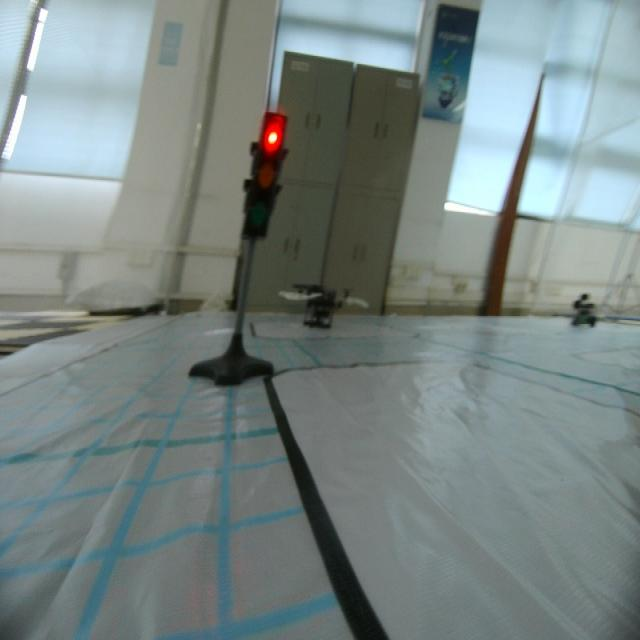red: (244, 106, 286, 245)
